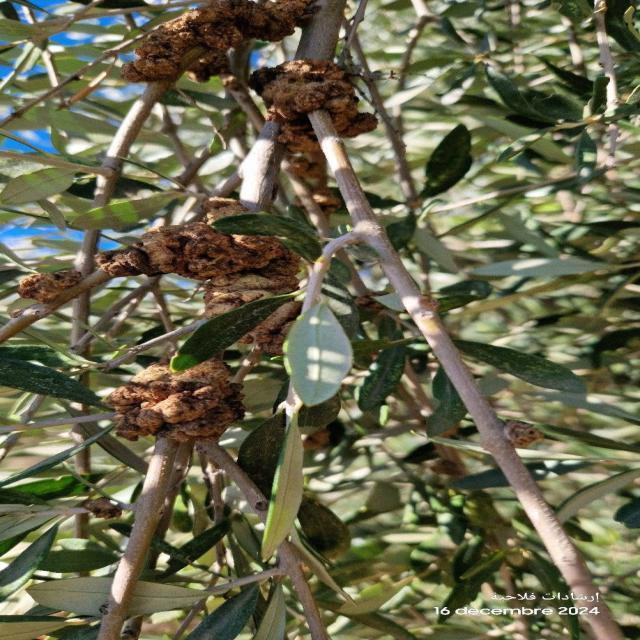Tuberculosis: (96, 222, 300, 318), (121, 0, 318, 85), (250, 59, 378, 154), (107, 359, 244, 443), (16, 269, 83, 305), (504, 420, 544, 448)
